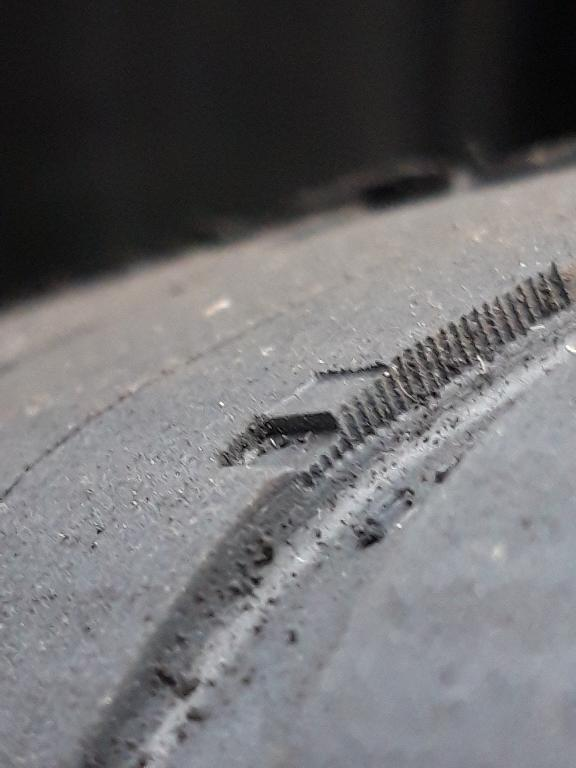temoin:25: (210, 355, 410, 494)
